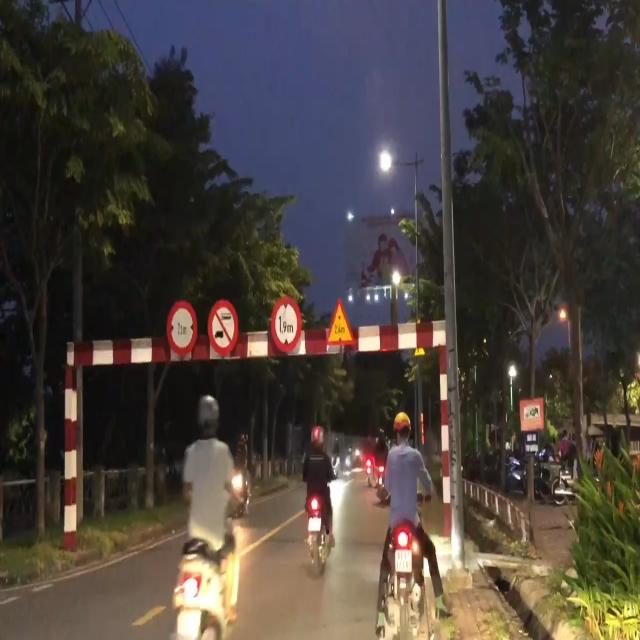Bien bao cam xe oto khach va xe oto tai: (208, 294, 240, 362)
Bien bao chieu cao tinh khong thuc te: (326, 293, 357, 355)
Bien bao han che chieu cao: (268, 292, 306, 358)
